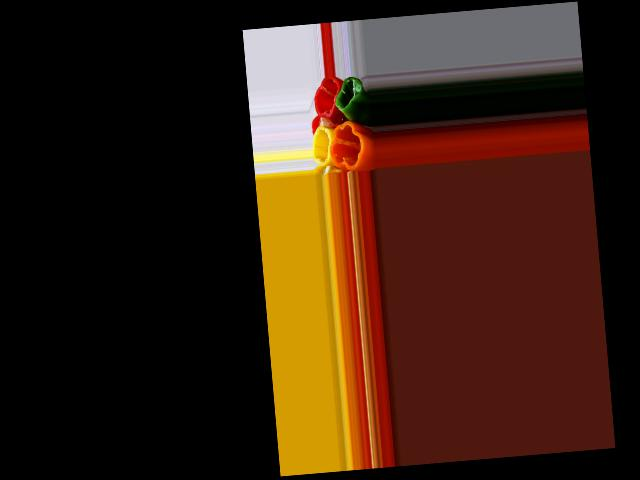bell_pepper: (311, 78, 340, 119)
